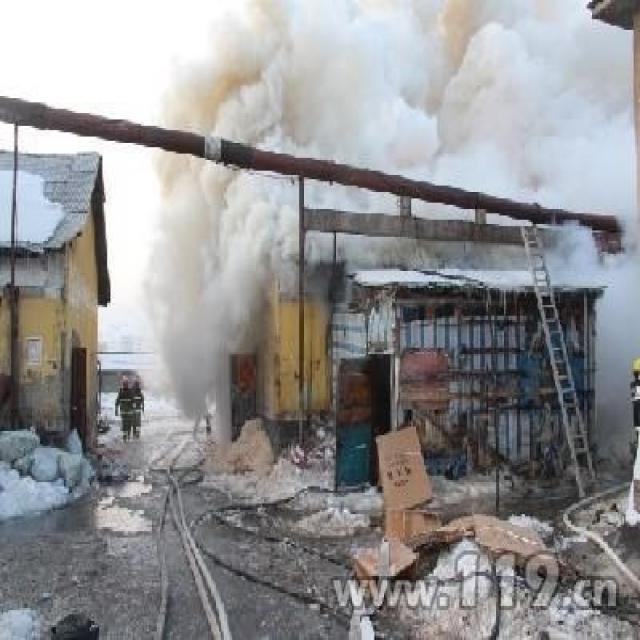Smoke: (139, 2, 640, 457)
